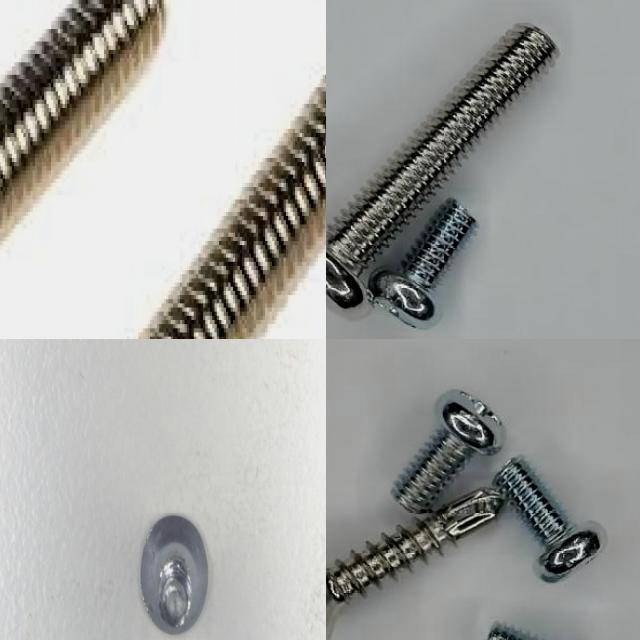Screw: (326, 24, 558, 309), (143, 80, 326, 339), (0, 0, 168, 244), (326, 488, 506, 640), (392, 390, 505, 515), (368, 199, 477, 328), (494, 458, 602, 583), (141, 515, 208, 634)
